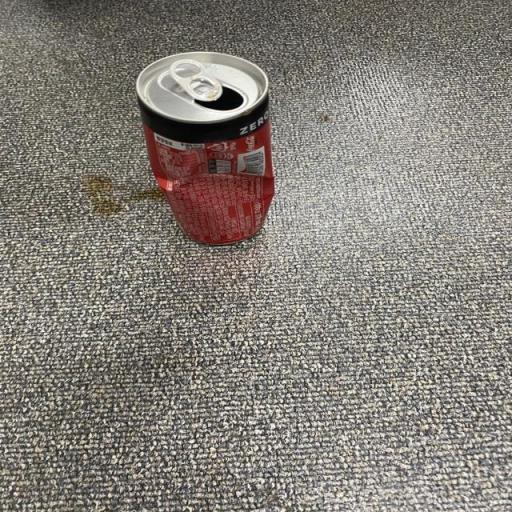metal: (126, 38, 290, 261)
